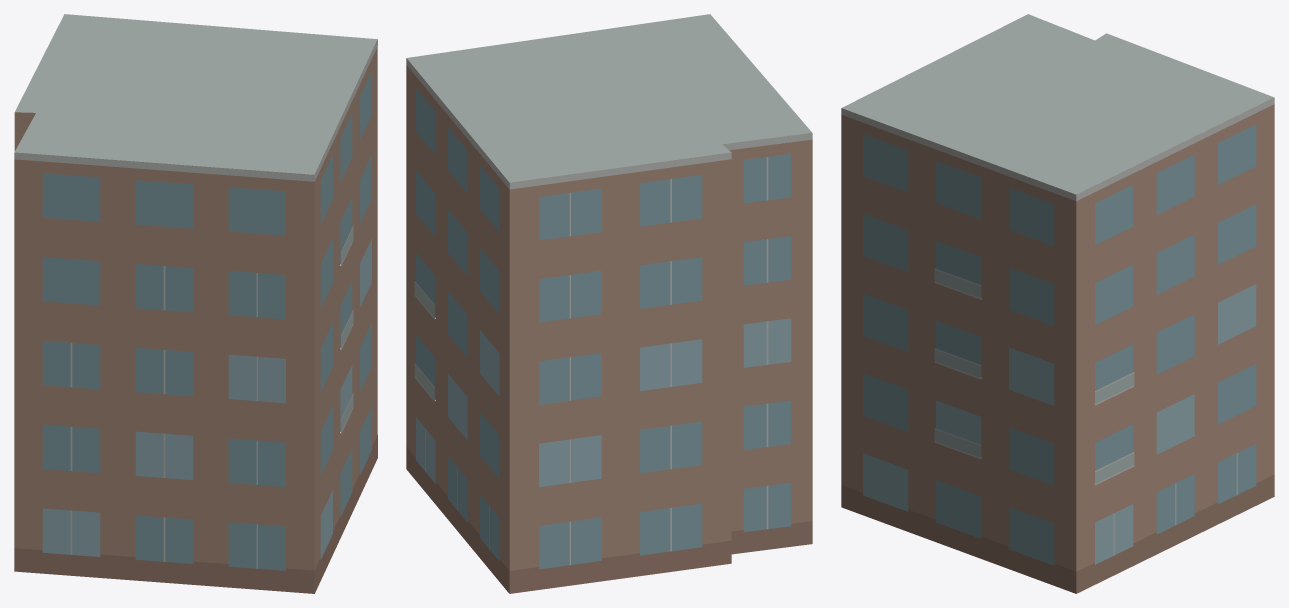
The model's file is survey-upis-32693292.glb.
The picture shows the model from 3 angles, left to right: view 1: azimuth 30°, elevation 25°; view 2: azimuth 150°, elevation 25°; view 3: azimuth 270°, elevation 25°; orthographic projection. The views are drawn at different scales.
Parts seen in each view (by area): view 1: survey-upis-32693292.tmp; view 2: survey-upis-32693292.tmp; view 3: survey-upis-32693292.tmp.
Part boxes in pixels (x1,y1,x2,y2): survey-upis-32693292.tmp: (14,14,377,593); survey-upis-32693292.tmp: (406,14,812,593); survey-upis-32693292.tmp: (841,14,1274,593).
Bounding box in the file's own units: 14.37 × 14.8 × 14.56.
